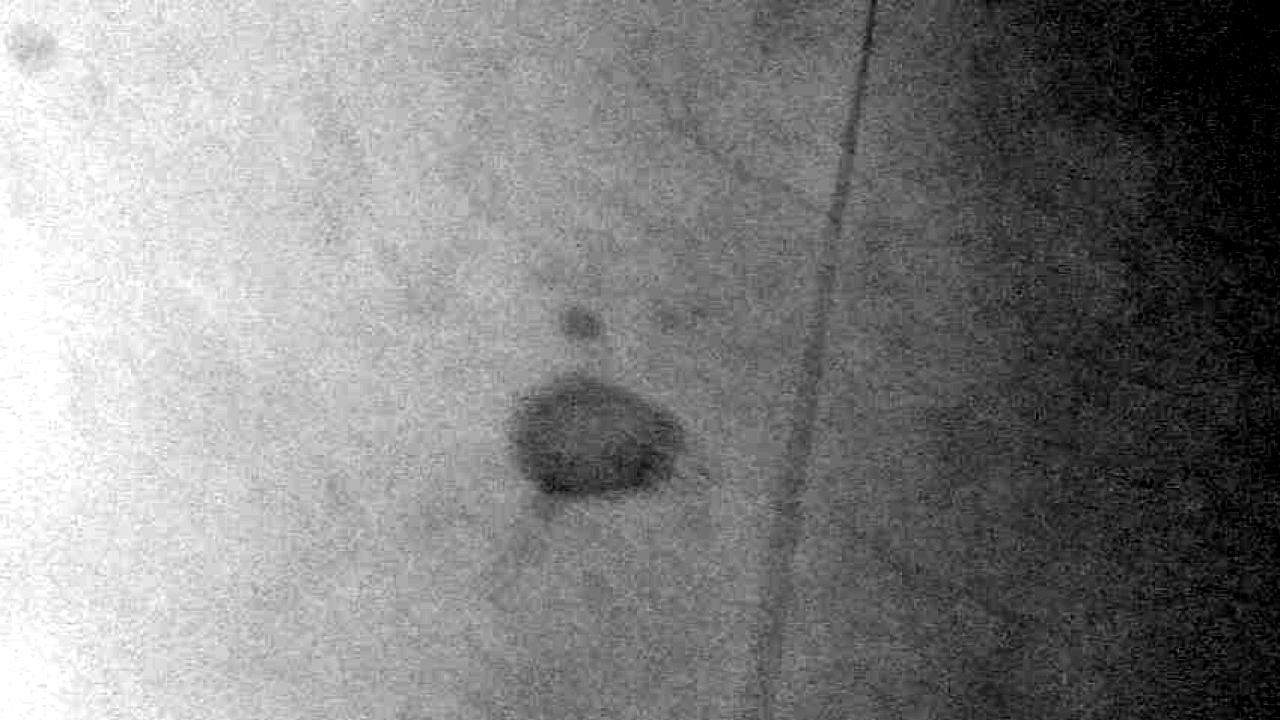drinks Stains: (511, 355, 700, 515)
